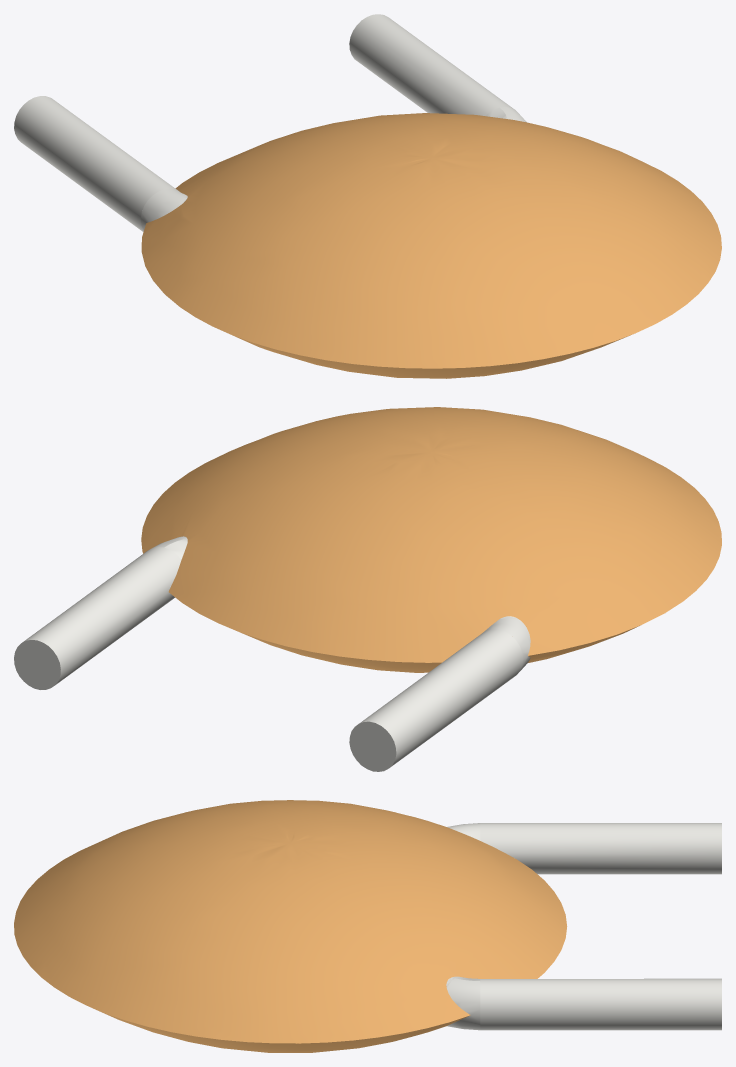
Rendered from C_Disc_D7.5mm_W2.5mm_P5.00mm.glb.
3 views of the same model, one above another, from view 1: azimuth 30°, elevation 25°; view 2: azimuth 150°, elevation 25°; view 3: azimuth 270°, elevation 25° (orthographic). The views are drawn at different scales.
Visible parts, largest first — view 1: Shape_IndexedFaceSet.003, Shape_IndexedFaceSet.001, Shape_IndexedFaceSet.008, Shape_IndexedFaceSet.004, Shape_IndexedFaceSet.002; view 2: Shape_IndexedFaceSet.003, Shape_IndexedFaceSet.001, Shape_IndexedFaceSet.008, Shape_IndexedFaceSet.004, Shape_IndexedFaceSet, Shape_IndexedFaceSet.013, Shape_IndexedFaceSet.002; view 3: Shape_IndexedFaceSet.003, Shape_IndexedFaceSet.008, Shape_IndexedFaceSet.001, Shape_IndexedFaceSet.004, Shape_IndexedFaceSet.011.
Boxes of the visible parts, x1=… form: Shape_IndexedFaceSet.003: x1=141, y1=113, x2=721, y2=368; Shape_IndexedFaceSet.001: x1=14, y1=96, x2=179, y2=231; Shape_IndexedFaceSet.008: x1=349, y1=14, x2=514, y2=115; Shape_IndexedFaceSet.004: x1=141, y1=163, x2=630, y2=378; Shape_IndexedFaceSet.002: x1=140, y1=188, x2=186, y2=230; Shape_IndexedFaceSet.003: x1=141, y1=407, x2=721, y2=662; Shape_IndexedFaceSet.001: x1=359, y1=629, x2=523, y2=767; Shape_IndexedFaceSet.008: x1=22, y1=547, x2=181, y2=684; Shape_IndexedFaceSet.004: x1=240, y1=492, x2=699, y2=672; Shape_IndexedFaceSet: x1=349, y1=721, x2=396, y2=771; Shape_IndexedFaceSet.013: x1=14, y1=640, x2=60, y2=689; Shape_IndexedFaceSet.002: x1=483, y1=618, x2=530, y2=671; Shape_IndexedFaceSet.003: x1=14, y1=800, x2=567, y2=1043; Shape_IndexedFaceSet.008: x1=480, y1=978, x2=721, y2=1030; Shape_IndexedFaceSet.001: x1=480, y1=823, x2=721, y2=874; Shape_IndexedFaceSet.004: x1=93, y1=1008, x2=469, y2=1052; Shape_IndexedFaceSet.011: x1=447, y1=978, x2=480, y2=1030.
Bounding box in the file's own units: 2.95 × 0.9841 × 3.78.
